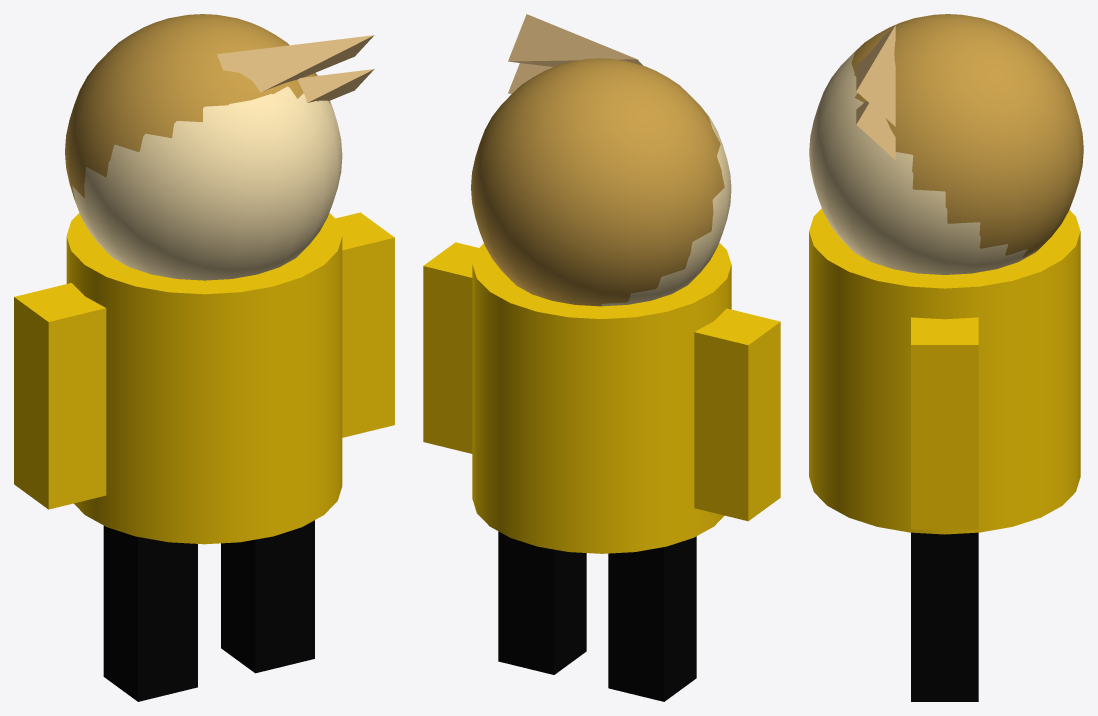
Rendered from yellowperson.fbx.
3 views of the same model, side by side, from view 1: azimuth 30°, elevation 25°; view 2: azimuth 150°, elevation 25°; view 3: azimuth 270°, elevation 25° (orthographic). The views are drawn at different scales.
Parts seen in each view (by area): view 1: Cylinder, Sphere1, Sphere, Box, Box1, Box3, Box2, Tetrahedron1, Tetrahedron; view 2: Cylinder, Sphere, Box, Box1, Box3, Box2, Tetrahedron1, Sphere1, Tetrahedron; view 3: Cylinder, Sphere, Sphere1, Box2, Box3, Tetrahedron1, Tetrahedron.
Boxes of the visible parts, bbox=[...] form: Cylinder: bbox=[66, 213, 342, 544]; Sphere1: bbox=[72, 86, 342, 280]; Sphere: bbox=[65, 14, 330, 210]; Box: bbox=[14, 283, 106, 509]; Box1: bbox=[103, 526, 197, 701]; Box3: bbox=[221, 520, 314, 673]; Box2: bbox=[335, 212, 394, 437]; Tetrahedron1: bbox=[217, 35, 374, 92]; Tetrahedron: bbox=[297, 69, 374, 102]; Cylinder: bbox=[472, 243, 731, 553]; Sphere: bbox=[471, 58, 724, 306]; Box: bbox=[694, 308, 780, 521]; Box1: bbox=[608, 536, 696, 701]; Box3: bbox=[498, 531, 586, 674]; Box2: bbox=[423, 242, 478, 453]; Tetrahedron1: bbox=[508, 14, 642, 66]; Sphere1: bbox=[601, 105, 731, 306]; Tetrahedron: bbox=[508, 63, 552, 93]; Cylinder: bbox=[809, 208, 1080, 534]; Sphere: bbox=[851, 14, 1083, 257]; Sphere1: bbox=[809, 45, 1037, 274]; Box2: bbox=[911, 317, 978, 529]; Box3: bbox=[911, 532, 978, 701]; Tetrahedron1: bbox=[856, 25, 895, 126]; Tetrahedron: bbox=[856, 101, 895, 159].
Bounding box in the file's own units: 145 × 256 × 101.
